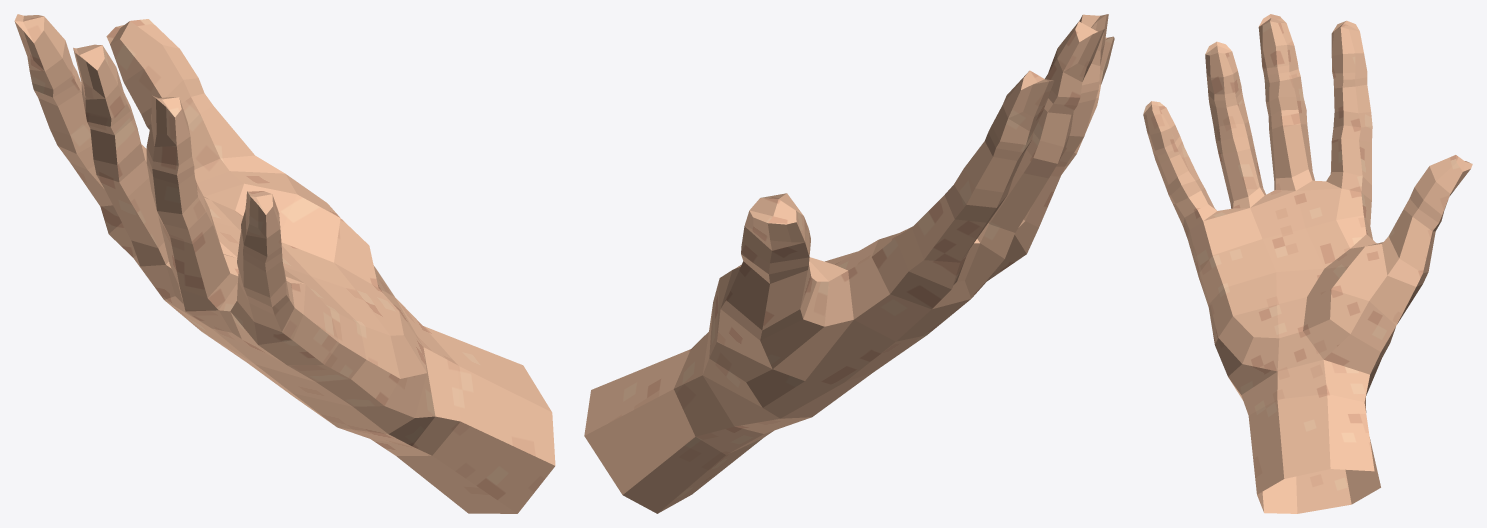
The model's file is hand.fbx.
3 views of the same model, side by side, from view 1: azimuth 30°, elevation 25°; view 2: azimuth 150°, elevation 25°; view 3: azimuth 270°, elevation 25° (orthographic). The views are drawn at different scales.
Parts seen in each view (by area): view 1: Plane005; view 2: Plane005; view 3: Plane005.
Boxes of the visible parts, box(x1,y1,x2,y2) form: Plane005: box(14, 14, 555, 513); Plane005: box(584, 14, 1114, 513); Plane005: box(1143, 14, 1472, 513).
Size of the model in its own units: 122 by 136 by 109.
